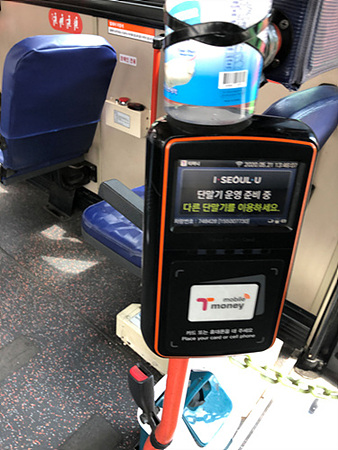terminal: (153, 118, 298, 353)
